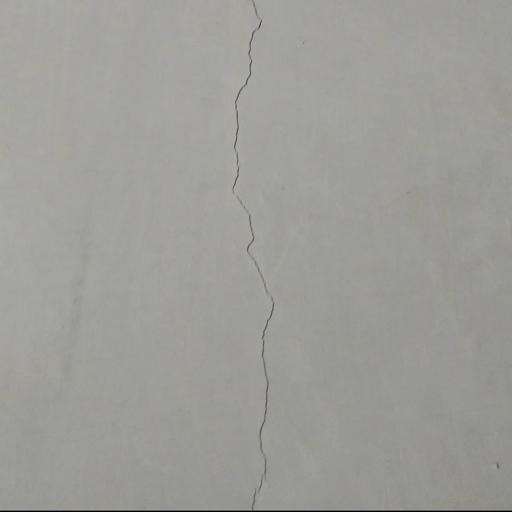minor_crack: (215, 0, 295, 512)
